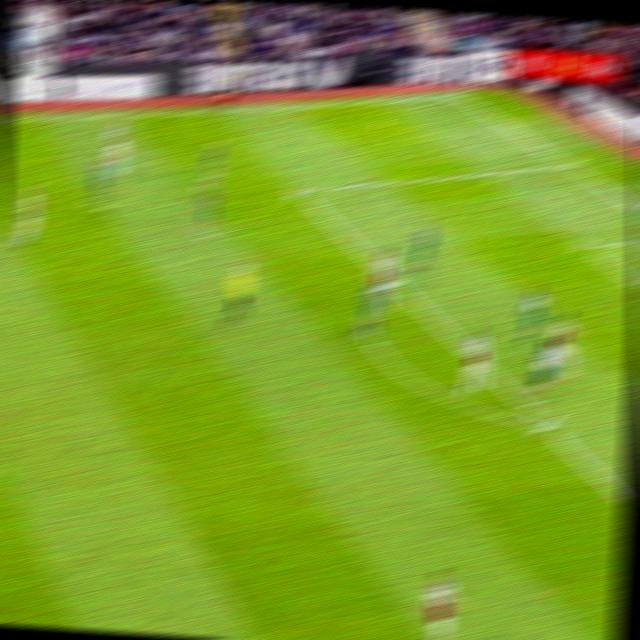bigarea_top_inner: (287, 177, 313, 205)
bigarea_top_outter: (557, 155, 582, 175)
bottom_arc_area_intersection: (531, 412, 560, 440)
corner: (448, 90, 472, 103)
smallarea_top_inner: (573, 236, 599, 258)
top_arc_area_intersection: (386, 275, 405, 289)
